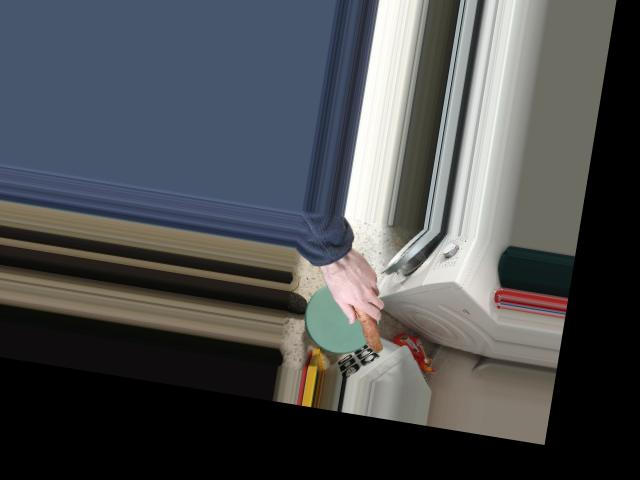sweet_potato: (328, 270, 394, 350)
